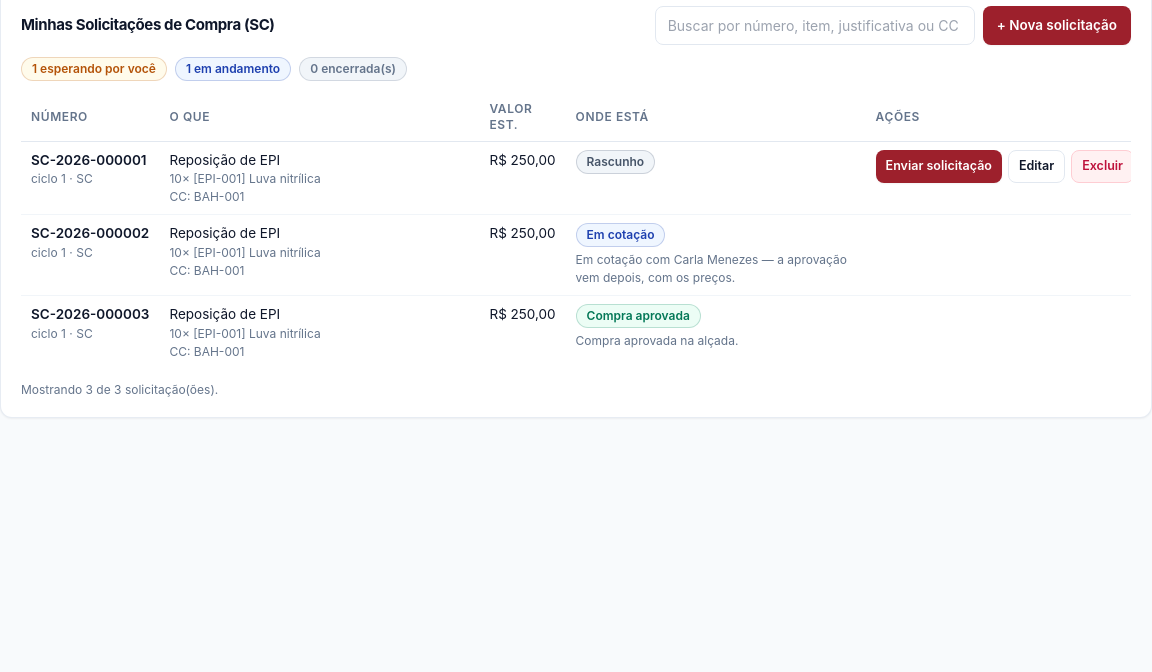
<MeusPedidos /> › urgência só aparece quando a prioridade é urgente
Expected: the table with test id "tabela-solicitacoes" is shown, [21,93,1131,368]
Click the button "Editar": coordinates (1037, 166) [1008,150,1065,183]
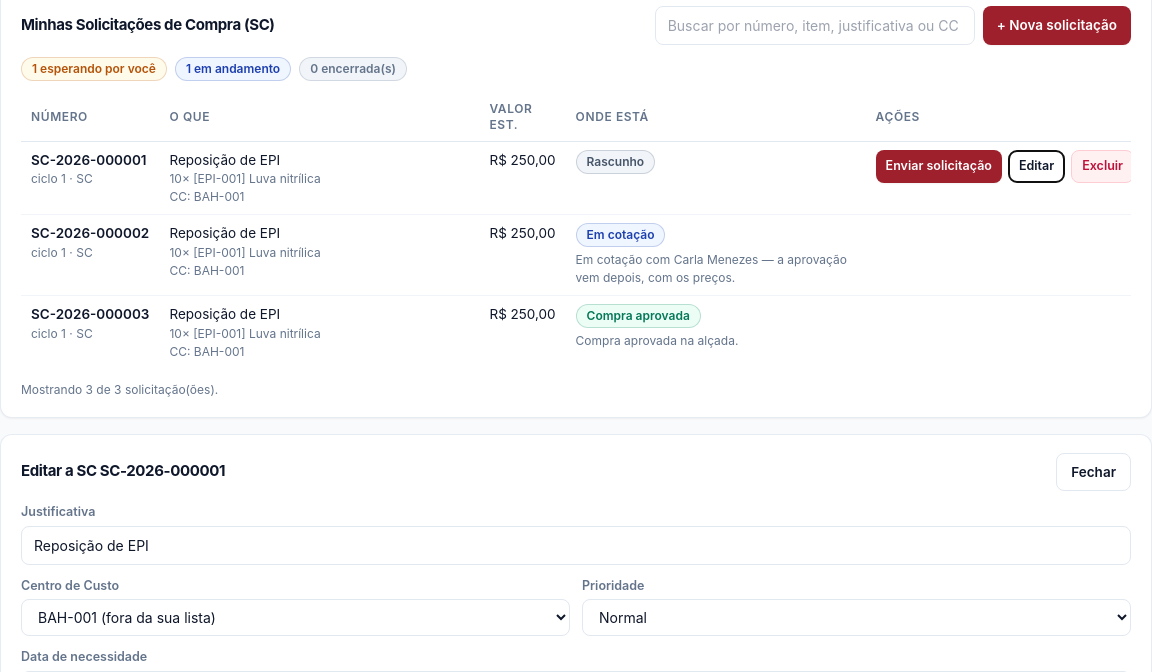
Expected: the field labelled "Justificativa da urgência" is not shown
Select "Urgente" in the dropdown labelled "Prioridade": coordinates (856, 618) [582,599,1131,636]
(page scrolled)
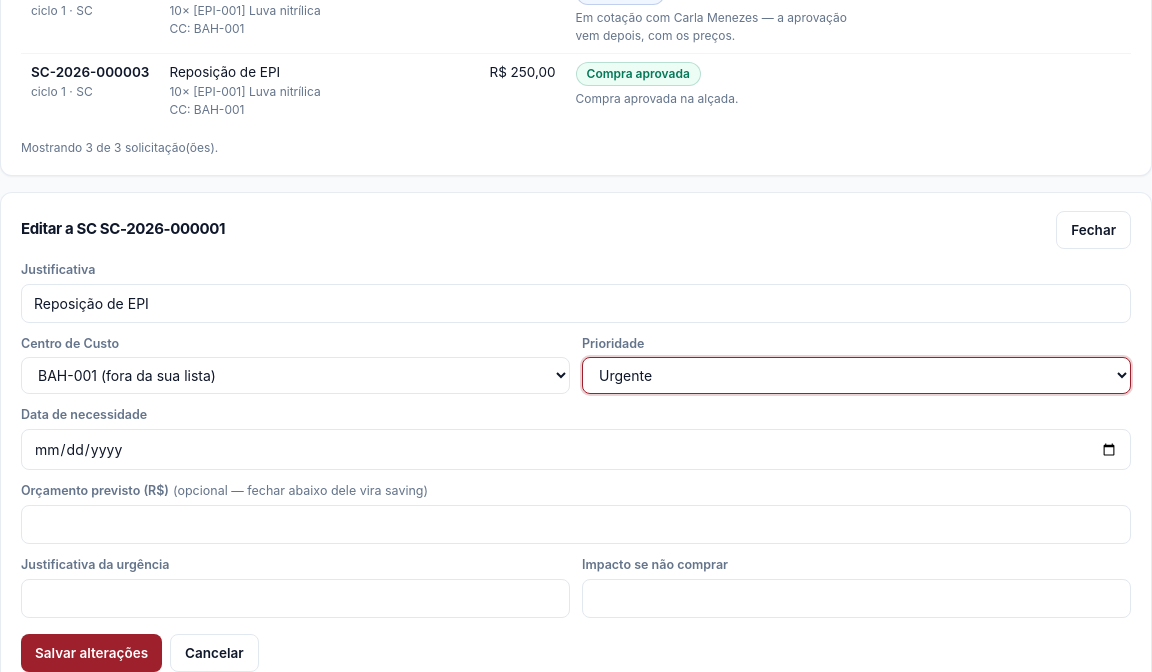
Result: the field labelled "Justificativa da urgência" is shown at [21,578,570,618]
